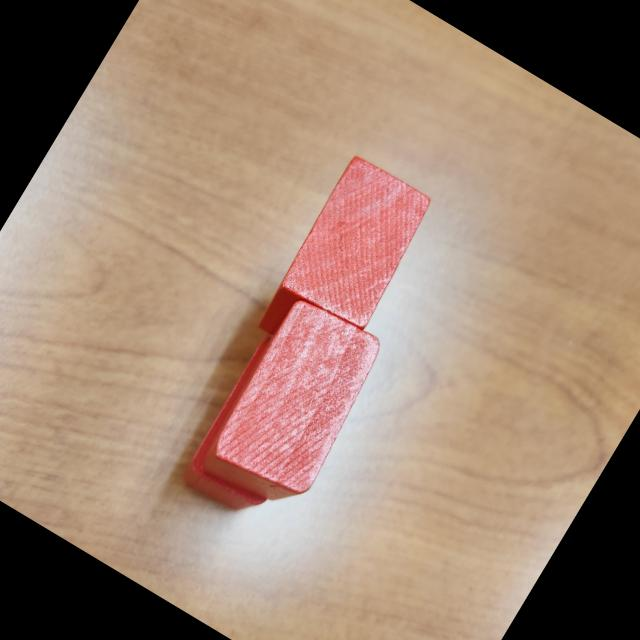red: (195, 290, 396, 522), (262, 151, 440, 358), (178, 332, 340, 524), (249, 212, 402, 376)
